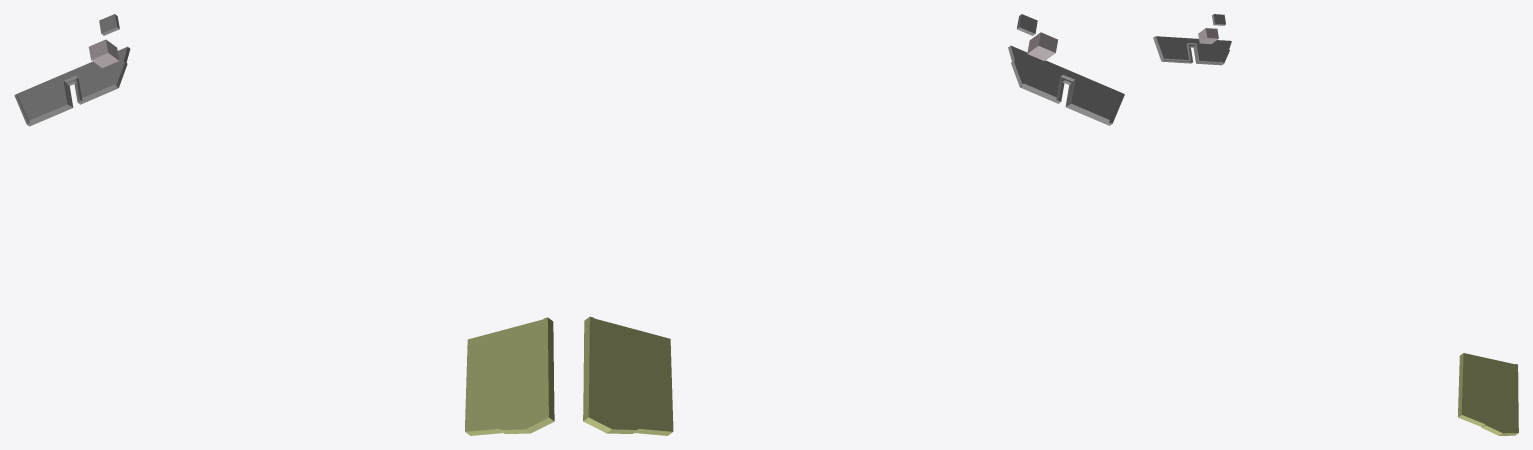
3 views of the same model, side by side, from view 1: azimuth 30°, elevation 25°; view 2: azimuth 150°, elevation 25°; view 3: azimuth 330°, elevation 25° (orthographic). The views are drawn at different scales.
Parts seen in each view (by area): view 1: 0_2_1_3_3; view 2: 0_2_1_3_3; view 3: 0_2_1_3_3.
Part boxes in pixels (x1,y1,x2,y2): 0_2_1_3_3: (14, 14, 554, 435); 0_2_1_3_3: (583, 14, 1124, 435); 0_2_1_3_3: (1153, 14, 1518, 435).
Bounding box in the file's own units: 332 × 306 × 12.85.
